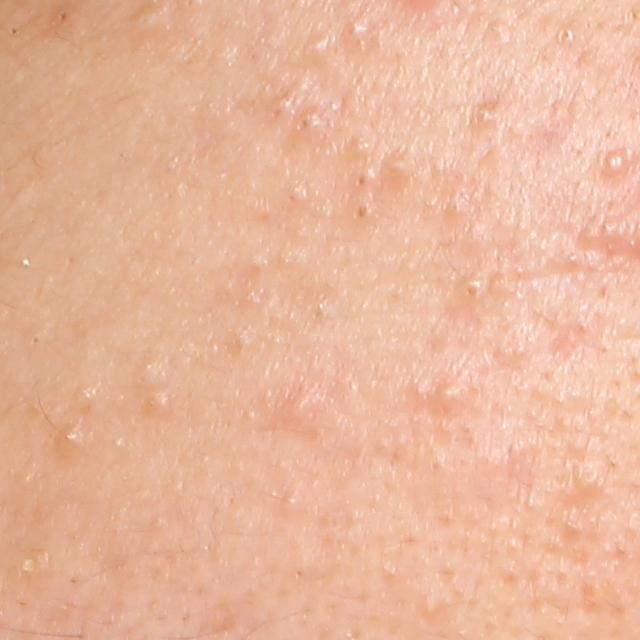atrophic_scar: (510, 257, 583, 289)
comedo: (416, 588, 455, 624), (451, 276, 482, 311), (381, 151, 412, 185), (302, 29, 337, 59), (21, 323, 49, 359), (344, 14, 375, 46), (293, 110, 324, 141), (442, 189, 472, 220), (576, 463, 606, 493), (484, 13, 512, 45), (142, 386, 173, 414), (75, 381, 105, 409), (351, 197, 378, 224), (129, 7, 157, 30), (554, 22, 579, 45), (351, 166, 375, 186), (286, 185, 311, 204), (475, 104, 497, 125), (4, 20, 24, 42)
papule: (285, 385, 325, 432)
pustule: (601, 148, 633, 182)
